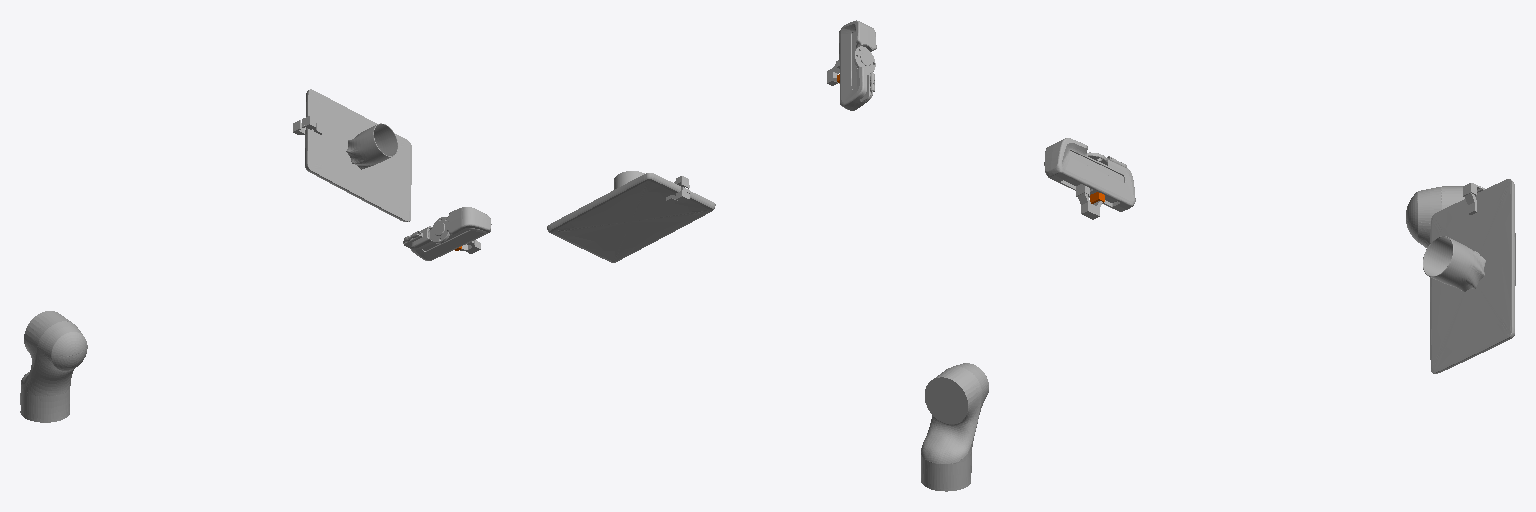
--- Facts derived from the render (not from the file) ---
The picture shows the robot from 3 angles, left to right: view 1: azimuth 30°, elevation 25°; view 2: azimuth 150°, elevation 25°; view 3: azimuth 270°, elevation 25°; orthographic projection.
Model dual_panda_urdf with 27 links and 26 joints (14 revolute, 4 prismatic, 8 fixed), rooted at Root, posed joints at zero except 4 at the middle of their limits (left_panda_fr3_link3_fr3_joint4 = -1.6, left_panda_fr3_link5_fr3_joint6 = 2.53, right_panda_fr3_link3_fr3_joint4 = -1.6, right_panda_fr3_link5_fr3_joint6 = 2.53).
Visible links, largest first — view 1: right_panda_fr3_hand, right_panda_fr3_link1, left_panda_fr3_hand; view 2: right_panda_fr3_hand, right_panda_fr3_link1, left_panda_fr3_hand; view 3: right_panda_fr3_hand, left_panda_fr3_hand, right_panda_fr3_link1.
Boxes of the visible links, left/top/right/bottom form: right_panda_fr3_hand: left=305, top=89, right=411, bottom=221; right_panda_fr3_link1: left=20, top=311, right=87, bottom=422; left_panda_fr3_hand: left=403, top=207, right=491, bottom=260; right_panda_fr3_hand: left=547, top=171, right=715, bottom=262; right_panda_fr3_link1: left=921, top=363, right=988, bottom=491; left_panda_fr3_hand: left=839, top=20, right=876, bottom=110; right_panda_fr3_hand: left=1423, top=179, right=1515, bottom=373; left_panda_fr3_hand: left=1044, top=138, right=1135, bottom=211; right_panda_fr3_link1: left=1406, top=186, right=1464, bottom=247.
Bounding box of the posed robot: 1.03 × 0.8525 × 0.6515 m (x, y, z).
4 mesh visuals loaded from 24 distinct referenced files (4 OBJ); not drawn: 20 (reference not matched to a file when rendering).

URDF robot description (dual_panda_urdf):
<?xml version="1.0" encoding="UTF-8"?>
<robot name="dual_panda_urdf">
  <joint name="left_panda_fr3_hand_fr3_finger_joint1" type="prismatic">
    <origin xyz="0. 0. 0.0584" rpy="0. 0. 1.5707964"/>
    <parent link="left_panda_fr3_hand"/>
    <child link="left_panda_fr3_leftfinger"/>
    <axis xyz="1. 0. 0."/>
    <limit lower="0." upper="0.04" effort="100." velocity="0.2"/>
  </joint>
  <joint name="left_panda_fr3_hand_fr3_finger_joint2" type="prismatic">
    <origin xyz="0. 0. 0.0584" rpy="0. 0. -1.5707964"/>
    <parent link="left_panda_fr3_hand"/>
    <child link="left_panda_fr3_rightfinger"/>
    <axis xyz="1. 0. 0."/>
    <limit lower="0." upper="0.04" effort="100." velocity="0.2"/>
  </joint>
  <joint name="left_panda_fr3_hand_fr3_hand_tcp_joint" type="fixed">
    <origin xyz="0. 0. 0.1034" rpy="0. 0. 0."/>
    <parent link="left_panda_fr3_hand"/>
    <child link="left_panda_fr3_hand_tcp"/>
  </joint>
  <joint name="left_panda_fr3_link0_fr3_joint1" type="revolute">
    <origin xyz="0. 0. 0.333" rpy="0. -1.5707963 0. "/>
    <parent link="left_panda_fr3_link0"/>
    <child link="left_panda_fr3_link1"/>
    <axis xyz="1. 0. 0."/>
    <limit lower="-2.7436999" upper="2.7436999" effort="87." velocity="2.6199998"/>
  </joint>
  <joint name="left_panda_fr3_link1_fr3_joint2" type="revolute">
    <origin xyz="0. 0. 0." rpy="0. 0. 1.5707964"/>
    <parent link="left_panda_fr3_link1"/>
    <child link="left_panda_fr3_link2"/>
    <axis xyz="1. 0. 0."/>
    <limit lower="-1.7836916" upper="1.7836999" effort="87." velocity="2.6199998"/>
  </joint>
  <joint name="left_panda_fr3_link2_fr3_joint3" type="revolute">
    <origin xyz="0. -0.316 0. " rpy="0. 0. -1.5707964"/>
    <parent link="left_panda_fr3_link2"/>
    <child link="left_panda_fr3_link3"/>
    <axis xyz="1. 0. 0."/>
    <limit lower="-2.9006999" upper="2.9006999" effort="87." velocity="2.6199998"/>
  </joint>
  <joint name="left_panda_fr3_link3_fr3_joint4" type="revolute">
    <origin xyz="0. 0. -0.0825" rpy="0. 0. -1.5707964"/>
    <parent link="left_panda_fr3_link3"/>
    <child link="left_panda_fr3_link4"/>
    <axis xyz="1. 0. 0."/>
    <limit lower="-3.0420914" upper="-0.1518" effort="87." velocity="2.6199998"/>
  </joint>
  <joint name="left_panda_fr3_link4_fr3_joint5" type="revolute">
    <origin xyz="0. 0.384 0.0825" rpy="0. 0. 1.5707964"/>
    <parent link="left_panda_fr3_link4"/>
    <child link="left_panda_fr3_link5"/>
    <axis xyz="1. 0. 0."/>
    <limit lower="-2.8064999" upper="2.8065068" effort="12." velocity="5.2600004"/>
  </joint>
  <joint name="left_panda_fr3_link5_fr3_joint6" type="revolute">
    <origin xyz="0. 0. 0." rpy="0. 0. -1.5707964"/>
    <parent link="left_panda_fr3_link5"/>
    <child link="left_panda_fr3_link6"/>
    <axis xyz="1. 0. 0."/>
    <limit lower="0.5445" upper="4.5168948" effort="12." velocity="4.1799999"/>
  </joint>
  <joint name="left_panda_fr3_link6_fr3_joint7" type="revolute">
    <origin xyz="0. 0. -0.088" rpy="0. 0. -1.5707964"/>
    <parent link="left_panda_fr3_link6"/>
    <child link="left_panda_fr3_link7"/>
    <axis xyz="1. 0. 0."/>
    <limit lower="-3.0158997" upper="3.0158941" effort="12." velocity="5.2600004"/>
  </joint>
  <joint name="left_panda_fr3_link7_fr3_joint8" type="fixed">
    <origin xyz="0.107 0. 0. " rpy="0. 1.5707963 0. "/>
    <parent link="left_panda_fr3_link7"/>
    <child link="left_panda_fr3_link8"/>
  </joint>
  <joint name="left_panda_fr3_link8_fr3_hand_joint" type="fixed">
    <origin xyz="0. 0. 0." rpy="0. 0. -0.7853982"/>
    <parent link="left_panda_fr3_link8"/>
    <child link="left_panda_fr3_hand"/>
  </joint>
  <joint name="left_panda_root_joint" type="fixed">
    <origin xyz="0. -0.35 -0. " rpy="0. 0. 0."/>
    <parent link="Root"/>
    <child link="left_panda_fr3_link0"/>
  </joint>
  <joint name="right_panda_fr3_hand_fr3_finger_joint1" type="prismatic">
    <origin xyz="0. 0. 0.0584" rpy="0. 0. 1.5707964"/>
    <parent link="right_panda_fr3_hand"/>
    <child link="right_panda_fr3_leftfinger"/>
    <axis xyz="1. 0. 0."/>
    <limit lower="0." upper="0.04" effort="100." velocity="0.2"/>
  </joint>
  <joint name="right_panda_fr3_hand_fr3_finger_joint2" type="prismatic">
    <origin xyz="0. 0. 0.0584" rpy="0. 0. -1.5707964"/>
    <parent link="right_panda_fr3_hand"/>
    <child link="right_panda_fr3_rightfinger"/>
    <axis xyz="1. 0. 0."/>
    <limit lower="0." upper="0.04" effort="100." velocity="0.2"/>
  </joint>
  <joint name="right_panda_fr3_hand_fr3_hand_tcp_joint" type="fixed">
    <origin xyz="0. 0. 0.1034" rpy="0. 0. 0."/>
    <parent link="right_panda_fr3_hand"/>
    <child link="right_panda_fr3_hand_tcp"/>
  </joint>
  <joint name="right_panda_fr3_link0_fr3_joint1" type="revolute">
    <origin xyz="0. 0. 0.333" rpy="0. -1.5707963 0. "/>
    <parent link="right_panda_fr3_link0"/>
    <child link="right_panda_fr3_link1"/>
    <axis xyz="1. 0. 0."/>
    <limit lower="-2.7436999" upper="2.7436999" effort="87." velocity="2.6199998"/>
  </joint>
  <joint name="right_panda_fr3_link1_fr3_joint2" type="revolute">
    <origin xyz="0. 0. 0." rpy="0. 0. 1.5707964"/>
    <parent link="right_panda_fr3_link1"/>
    <child link="right_panda_fr3_link2"/>
    <axis xyz="1. 0. 0."/>
    <limit lower="-1.7836916" upper="1.7836999" effort="87." velocity="2.6199998"/>
  </joint>
  <joint name="right_panda_fr3_link2_fr3_joint3" type="revolute">
    <origin xyz="0. -0.316 0. " rpy="0. 0. -1.5707964"/>
    <parent link="right_panda_fr3_link2"/>
    <child link="right_panda_fr3_link3"/>
    <axis xyz="1. 0. 0."/>
    <limit lower="-2.9006999" upper="2.9006999" effort="87." velocity="2.6199998"/>
  </joint>
  <joint name="right_panda_fr3_link3_fr3_joint4" type="revolute">
    <origin xyz="0. 0. -0.0825" rpy="0. 0. -1.5707964"/>
    <parent link="right_panda_fr3_link3"/>
    <child link="right_panda_fr3_link4"/>
    <axis xyz="1. 0. 0."/>
    <limit lower="-3.0420914" upper="-0.1518" effort="87." velocity="2.6199998"/>
  </joint>
  <joint name="right_panda_fr3_link4_fr3_joint5" type="revolute">
    <origin xyz="0. 0.384 0.0825" rpy="0. 0. 1.5707964"/>
    <parent link="right_panda_fr3_link4"/>
    <child link="right_panda_fr3_link5"/>
    <axis xyz="1. 0. 0."/>
    <limit lower="-2.8065068" upper="2.8064999" effort="12." velocity="5.2600004"/>
  </joint>
  <joint name="right_panda_fr3_link5_fr3_joint6" type="revolute">
    <origin xyz="0. 0. 0." rpy="0. 0. -1.5707964"/>
    <parent link="right_panda_fr3_link5"/>
    <child link="right_panda_fr3_link6"/>
    <axis xyz="1. 0. 0."/>
    <limit lower="0.5445" upper="4.5168948" effort="12." velocity="4.1799999"/>
  </joint>
  <joint name="right_panda_fr3_link6_fr3_joint7" type="revolute">
    <origin xyz="0. 0. -0.088" rpy="0. 0. -1.5707964"/>
    <parent link="right_panda_fr3_link6"/>
    <child link="right_panda_fr3_link7"/>
    <axis xyz="1. 0. 0."/>
    <limit lower="-3.0158997" upper="3.0158941" effort="12." velocity="5.2600004"/>
  </joint>
  <joint name="right_panda_fr3_link7_fr3_joint8" type="fixed">
    <origin xyz="0.107 0. 0. " rpy="0. 1.5707963 0. "/>
    <parent link="right_panda_fr3_link7"/>
    <child link="right_panda_fr3_link8"/>
  </joint>
  <joint name="right_panda_fr3_link8_fr3_hand_joint" type="fixed">
    <origin xyz="0. 0. 0." rpy="0. 0. -0.7853982"/>
    <parent link="right_panda_fr3_link8"/>
    <child link="right_panda_fr3_hand"/>
  </joint>
  <joint name="right_panda_root_joint" type="fixed">
    <origin xyz="0. 0.35 -0. " rpy="0. 0. 0."/>
    <parent link="Root"/>
    <child link="right_panda_fr3_link0"/>
  </joint>
  <link name="Root"/>
  <link name="left_panda_fr3_hand">
    <inertial>
      <origin xyz="0. 0. 0." rpy="0. 0. 0."/>
      <mass value="0.73"/>
      <inertia ixx="0." ixy="0." ixz="0." iyy="0." iyz="0." izz="0."/>
    </inertial>
    <visual>
      <origin xyz="0. 0. 0." rpy="0. 0. 0."/>
      <geometry>
        <mesh filename="meshes/left_panda_fr3_hand_visuals.obj" scale="1. 1. 1."/>
      </geometry>
      <material name="LightGrey">
        <color rgba="0.7 0.7 0.7 1.0"/>
      </material>
    </visual>
    <collision>
      <origin xyz="0. 0. 0." rpy="0. 0. 0."/>
      <geometry>
        <mesh filename="meshes/left_panda_fr3_hand_collisions.obj" scale="1. 1. 1."/>
      </geometry>
    </collision>
  </link>
  <link name="left_panda_fr3_hand_tcp"/>
  <link name="left_panda_fr3_leftfinger">
    <visual>
      <origin xyz="0. 0. 0." rpy="0. 0. -1.5707964"/>
      <geometry>
        <mesh filename="meshes/left_panda_fr3_leftfinger_visuals.obj" scale="1. 1. 1."/>
      </geometry>
      <material name="LightGrey">
        <color rgba="0.7 0.7 0.7 1.0"/>
      </material>
    </visual>
    <visual>
      <origin xyz="0.0185 0. 0.011 " rpy="0. 0. -1.5707964"/>
      <geometry>
        <box size="0.022 0.015 0.02 "/>
      </geometry>
      <material name="LightGrey">
        <color rgba="0.7 0.7 0.7 1.0"/>
      </material>
    </visual>
    <visual>
      <origin xyz="0.0068 0. 0.0022" rpy="0. 0. -1.5707964"/>
      <geometry>
        <box size="0.022 0.0088 0.0038"/>
      </geometry>
      <material name="LightGrey">
        <color rgba="0.7 0.7 0.7 1.0"/>
      </material>
    </visual>
    <visual>
      <origin xyz="0.0159 0. 0.02835" rpy="0.5235989 0. -1.5707964"/>
      <geometry>
        <box size="0.0175 0.007 0.0235"/>
      </geometry>
      <material name="LightGrey">
        <color rgba="0.7 0.7 0.7 1.0"/>
      </material>
    </visual>
    <visual>
      <origin xyz="0.00758 0. 0.04525" rpy="0. 0. -1.5707964"/>
      <geometry>
        <box size="0.0175 0.0152 0.0185"/>
      </geometry>
      <material name="LightGrey">
        <color rgba="0.7 0.7 0.7 1.0"/>
      </material>
    </visual>
    <collision>
      <origin xyz="0.0185 0. 0.011 " rpy="0. 0. -1.5707964"/>
      <geometry>
        <box size="0.022 0.015 0.02 "/>
      </geometry>
    </collision>
    <collision>
      <origin xyz="0.0068 0. 0.0022" rpy="0. 0. -1.5707964"/>
      <geometry>
        <box size="0.022 0.0088 0.0038"/>
      </geometry>
    </collision>
    <collision>
      <origin xyz="0.0159 0. 0.02835" rpy="0.5235989 0. -1.5707964"/>
      <geometry>
        <box size="0.0175 0.007 0.0235"/>
      </geometry>
    </collision>
    <collision>
      <origin xyz="0.00758 0. 0.04525" rpy="0. 0. -1.5707964"/>
      <geometry>
        <box size="0.0175 0.0152 0.0185"/>
      </geometry>
    </collision>
  </link>
  <link name="left_panda_fr3_link0">
    <visual>
      <origin xyz="0. 0. 0." rpy="0. 0. 0."/>
      <geometry>
        <mesh filename="meshes/left_panda_fr3_link0_visuals.obj" scale="1. 1. 1."/>
      </geometry>
      <material name="LightGrey">
        <color rgba="0.7 0.7 0.7 1.0"/>
      </material>
    </visual>
    <collision>
      <origin xyz="0. 0. 0." rpy="0. 0. 0."/>
      <geometry>
        <mesh filename="meshes/left_panda_fr3_link0_collisions.obj" scale="1. 1. 1."/>
      </geometry>
    </collision>
  </link>
  <link name="left_panda_fr3_link1">
    <inertial>
      <origin xyz="0. 0. 0." rpy="0. 0. 0."/>
      <mass value="2.9274654"/>
      <inertia ixx="0." ixy="0." ixz="0." iyy="0." iyz="0." izz="0."/>
    </inertial>
    <visual>
      <origin xyz="0. 0. 0." rpy="0. 1.5707963 0. "/>
      <geometry>
        <mesh filename="meshes/left_panda_fr3_link1_visuals.obj" scale="1. 1. 1."/>
      </geometry>
      <material name="LightGrey">
        <color rgba="0.7 0.7 0.7 1.0"/>
      </material>
    </visual>
    <collision>
      <origin xyz="0. 0. 0." rpy="0. 1.5707963 0. "/>
      <geometry>
        <mesh filename="meshes/left_panda_fr3_link1_collisions.obj" scale="1. 1. 1."/>
      </geometry>
    </collision>
  </link>
  <link name="left_panda_fr3_link2">
    <inertial>
      <origin xyz="0. 0. 0." rpy="0. 0. 0."/>
      <mass value="2.9355371"/>
      <inertia ixx="0." ixy="0." ixz="0." iyy="0." iyz="0." izz="0."/>
    </inertial>
    <visual>
      <origin xyz="0. 0. 0." rpy="0. 1.5707963 0. "/>
      <geometry>
        <mesh filename="meshes/left_panda_fr3_link2_visuals.obj" scale="1. 1. 1."/>
      </geometry>
      <material name="LightGrey">
        <color rgba="0.7 0.7 0.7 1.0"/>
      </material>
    </visual>
    <collision>
      <origin xyz="0. 0. 0." rpy="0. 1.5707963 0. "/>
      <geometry>
        <mesh filename="meshes/left_panda_fr3_link2_collisions.obj" scale="1. 1. 1."/>
      </geometry>
    </collision>
  </link>
  <link name="left_panda_fr3_link3">
    <inertial>
      <origin xyz="0. 0. 0." rpy="0. 0. 0."/>
      <mass value="2.2449014"/>
      <inertia ixx="0." ixy="0." ixz="0." iyy="0." iyz="0." izz="0."/>
    </inertial>
    <visual>
      <origin xyz="0. 0. 0." rpy="0. 1.5707963 0. "/>
      <geometry>
        <mesh filename="meshes/left_panda_fr3_link3_visuals.obj" scale="1. 1. 1."/>
      </geometry>
      <material name="LightGrey">
        <color rgba="0.7 0.7 0.7 1.0"/>
      </material>
    </visual>
    <collision>
      <origin xyz="0. 0. 0." rpy="0. 1.5707963 0. "/>
      <geometry>
        <mesh filename="meshes/left_panda_fr3_link3_collisions.obj" scale="1. 1. 1."/>
      </geometry>
    </collision>
  </link>
  <link name="left_panda_fr3_link4">
    <inertial>
      <origin xyz="0. 0. 0." rpy="0. 0. 0."/>
      <mass value="2.6155956"/>
      <inertia ixx="0." ixy="0." ixz="0." iyy="0." iyz="0." izz="0."/>
    </inertial>
    <visual>
      <origin xyz="0. 0. 0." rpy="0. 1.5707963 0. "/>
      <geometry>
        <mesh filename="meshes/left_panda_fr3_link4_visuals.obj" scale="1. 1. 1."/>
      </geometry>
      <material name="LightGrey">
        <color rgba="0.7 0.7 0.7 1.0"/>
      </material>
    </visual>
    <collision>
      <origin xyz="0. 0. 0." rpy="0. 1.5707963 0. "/>
      <geometry>
        <mesh filename="meshes/left_panda_fr3_link4_collisions.obj" scale="1. 1. 1."/>
      </geometry>
    </collision>
  </link>
  <link name="left_panda_fr3_link5">
    <inertial>
      <origin xyz="0. 0. 0." rpy="0. 0. 0."/>
      <mass value="2.3271208"/>
      <inertia ixx="0." ixy="0." ixz="0." iyy="0." iyz="0." izz="0."/>
    </inertial>
    <visual>
      <origin xyz="0. 0. 0." rpy="0. 1.5707963 0. "/>
      <geometry>
        <mesh filename="meshes/left_panda_fr3_link5_visuals.obj" scale="1. 1. 1."/>
      </geometry>
      <material name="LightGrey">
        <color rgba="0.7 0.7 0.7 1.0"/>
      </material>
    </visual>
    <collision>
      <origin xyz="0. 0. 0." rpy="0. 1.5707963 0. "/>
      <geometry>
        <mesh filename="meshes/left_panda_fr3_link5_collisions.obj" scale="1. 1. 1."/>
      </geometry>
    </collision>
  </link>
  <link name="left_panda_fr3_link6">
    <inertial>
      <origin xyz="0. 0. 0." rpy="0. 0. 0."/>
      <mass value="1.8170377"/>
      <inertia ixx="0." ixy="0." ixz="0." iyy="0." iyz="0." izz="0."/>
    </inertial>
    <visual>
      <origin xyz="0. 0. 0." rpy="0. 1.5707963 0. "/>
      <geometry>
        <mesh filename="meshes/left_panda_fr3_link6_visuals.obj" scale="1. 1. 1."/>
      </geometry>
      <material name="LightGrey">
        <color rgba="0.7 0.7 0.7 1.0"/>
      </material>
    </visual>
    <collision>
      <origin xyz="0. 0. 0." rpy="0. 1.5707963 0. "/>
      <geometry>
        <mesh filename="meshes/left_panda_fr3_link6_collisions.obj" scale="1. 1. 1."/>
      </geometry>
    </collision>
  </link>
  <link name="left_panda_fr3_link7">
    <inertial>
      <origin xyz="0. 0. 0." rpy="0. 0. 0."/>
      <mass value="0.6271433"/>
      <inertia ixx="0." ixy="0." ixz="0." iyy="0." iyz="0." izz="0."/>
    </inertial>
    <visual>
      <origin xyz="0. 0. 0." rpy="0. 1.5707963 0. "/>
      <geometry>
        <mesh filename="meshes/left_panda_fr3_link7_visuals.obj" scale="1. 1. 1."/>
      </geometry>
      <material name="LightGrey">
        <color rgba="0.7 0.7 0.7 1.0"/>
      </material>
    </visual>
    <collision>
      <origin xyz="0. 0. 0." rpy="0. 1.5707963 0. "/>
      <geometry>
        <mesh filename="meshes/left_panda_fr3_link7_collisions.obj" scale="1. 1. 1."/>
      </geometry>
      <material name="LightGrey">
        <color rgba="0.7 0.7 0.7 1.0"/>
      </material>
    </collision>
  </link>
  <link name="left_panda_fr3_link8"/>
  <link name="left_panda_fr3_rightfinger">
    <visual>
      <origin xyz="0. 0. 0." rpy="0. 0. -1.5707963"/>
      <geometry>
        <mesh filename="meshes/left_panda_fr3_rightfinger_visuals.obj" scale="1. 1. 1."/>
      </geometry>
      <material name="LightGrey">
        <color rgba="0.7 0.7 0.7 1.0"/>
      </material>
    </visual>
    <visual>
      <origin xyz="0.0185 0. 0.011 " rpy="0. 0. 1.5707964"/>
      <geometry>
        <box size="0.022 0.015 0.02 "/>
      </geometry>
    </visual>
    <visual>
      <origin xyz="0.0068 0. 0.0022" rpy="0. 0. 1.5707964"/>
      <geometry>
        <box size="0.022 0.0088 0.0038"/>
      </geometry>
      <material name="LightGrey">
        <color rgba="0.7 0.7 0.7 1.0"/>
      </material>
    </visual>
    <visual>
      <origin xyz="0.0159 0. 0.02835" rpy="-0.5235989 0. 1.5707964"/>
      <geometry>
        <box size="0.0175 0.007 0.0235"/>
      </geometry>
      <material name="LightGrey">
        <color rgba="0.7 0.7 0.7 1.0"/>
      </material>
    </visual>
    <visual>
      <origin xyz="0.00758 0. 0.04525" rpy="0. 0. 1.5707964"/>
      <geometry>
        <box size="0.0175 0.0152 0.0185"/>
      </geometry>
      <material name="LightGrey">
        <color rgba="0.7 0.7 0.7 1.0"/>
      </material>
    </visual>
    <collision>
      <origin xyz="0.0185 0. 0.011 " rpy="0. 0. 1.5707964"/>
      <geometry>
        <box size="0.022 0.015 0.02 "/>
      </geometry>
    </collision>
    <collision>
      <origin xyz="0.0068 0. 0.0022" rpy="0. 0. 1.5707964"/>
      <geometry>
        <box size="0.022 0.0088 0.0038"/>
      </geometry>
    </collision>
    <collision>
      <origin xyz="0.0159 0. 0.02835" rpy="-0.5235989 0. 1.5707964"/>
      <geometry>
        <box size="0.0175 0.007 0.0235"/>
      </geometry>
    </collision>
    <collision>
      <origin xyz="0.00758 0. 0.04525" rpy="0. 0. 1.5707964"/>
      <geometry>
        <box size="0.0175 0.0152 0.0185"/>
      </geometry>
    </collision>
  </link>
  <link name="right_panda_fr3_hand">
    <inertial>
      <origin xyz="0. 0. 0." rpy="0. 0. 0."/>
      <mass value="0.73"/>
      <inertia ixx="0." ixy="0." ixz="0." iyy="0." iyz="0." izz="0."/>
    </inertial>
    <visual>
      <origin xyz="0. 0. 0." rpy="0. 0. 0."/>
      <geometry>
        <mesh filename="meshes/right_panda_fr3_hand_visuals.obj" scale="1. 1. 1."/>
      </geometry>
      <material name="LightGrey">
        <color rgba="0.7 0.7 0.7 1.0"/>
      </material>
    </visual>
    <visual>
      <origin xyz="0.0000068 0.0083501 0.2379537" rpy="-1.5707964 -1.5707964 0. "/>
      <geometry>
        <mesh filename="meshes/plane_node__mesh_.obj" scale="1.05 1. 1. "/>
      </geometry>
      <material name="LightGrey">
        <color rgba="0.7 0.7 0.7 1.0"/>
      </material>
    </visual>
    <visual>
      <origin xyz="-0.0054416 0.0078812 0.2320216" rpy="1.5707964 0. 3.1415927"/>
      <geometry>
        <mesh filename="meshes/bottle_node__mesh_.obj" scale="1. 1. 1."/>
      </geometry>
      <material name="LightGrey">
        <color rgba="0.7 0.7 0.7 1.0"/>
      </material>
    </visual>
    <collision>
      <origin xyz="0. 0. 0." rpy="0. 0. 0."/>
      <geometry>
        <mesh filename="meshes/right_panda_fr3_hand_collisions.obj" scale="1. 1. 1."/>
      </geometry>
    </collision>
  </link>
  <link name="right_panda_fr3_hand_tcp"/>
  <link name="right_panda_fr3_leftfinger">
    <visual>
      <origin xyz="0. 0. 0." rpy="0. 0. -1.5707964"/>
      <geometry>
        <mesh filename="meshes/right_panda_fr3_leftfinger_visuals.obj" scale="1. 1. 1."/>
      </geometry>
      <material name="LightGrey">
        <color rgba="0.7 0.7 0.7 1.0"/>
      </material>
    </visual>
    <visual>
      <origin xyz="0.0185 0. 0.011 " rpy="0. 0. -1.5707964"/>
      <geometry>
        <box size="0.022 0.015 0.02 "/>
      </geometry>
      <material name="LightGrey">
        <color rgba="0.7 0.7 0.7 1.0"/>
      </material>
    </visual>
    <visual>
      <origin xyz="0.0068 0. 0.0022" rpy="0. 0. -1.5707964"/>
      <geometry>
        <box size="0.022 0.0088 0.0038"/>
      </geometry>
      <material name="LightGrey">
        <color rgba="0.7 0.7 0.7 1.0"/>
      </material>
    </visual>
    <visual>
      <origin xyz="0.0159 0. 0.02835" rpy="0.5235989 0. -1.5707964"/>
      <geometry>
        <box size="0.0175 0.007 0.0235"/>
      </geometry>
      <material name="LightGrey">
        <color rgba="0.7 0.7 0.7 1.0"/>
      </material>
    </visual>
    <visual>
      <origin xyz="0.00758 0. 0.04525" rpy="0. 0. -1.5707964"/>
      <geometry>
        <box size="0.0175 0.0152 0.0185"/>
      </geometry>
      <material name="LightGrey">
        <color rgba="0.7 0.7 0.7 1.0"/>
      </material>
    </visual>
    <collision>
      <origin xyz="0.0185 0. 0.011 " rpy="0. 0. -1.5707964"/>
      <geometry>
        <box size="0.022 0.015 0.02 "/>
      </geometry>
    </collision>
    <collision>
      <origin xyz="0.0068 0. 0.0022" rpy="0. 0. -1.5707964"/>
      <geometry>
        <box size="0.022 0.0088 0.0038"/>
      </geometry>
    </collision>
    <collision>
      <origin xyz="0.0159 0. 0.02835" rpy="0.5235989 0. -1.5707964"/>
      <geometry>
        <box size="0.0175 0.007 0.0235"/>
      </geometry>
    </collision>
    <collision>
      <origin xyz="0.00758 0. 0.04525" rpy="0. 0. -1.5707964"/>
      <geometry>
        <box size="0.0175 0.0152 0.0185"/>
      </geometry>
    </collision>
  </link>
  <link name="right_panda_fr3_link0">
    <visual>
      <origin xyz="0. 0. 0." rpy="0. 0. 0."/>
      <geometry>
        <mesh filename="meshes/right_panda_fr3_link0_visuals.obj" scale="1. 1. 1."/>
      </geometry>
      <material name="LightGrey">
        <color rgba="0.7 0.7 0.7 1.0"/>
      </material>
    </visual>
    <collision>
      <origin xyz="0. 0. 0." rpy="0. 0. 0."/>
      <geometry>
        <mesh filename="meshes/right_panda_fr3_link0_collisions.obj" scale="1. 1. 1."/>
      </geometry>
    </collision>
  </link>
  <link name="right_panda_fr3_link1">
    <inertial>
      <origin xyz="0. 0. 0." rpy="0. 0. 0."/>
      <mass value="2.9274654"/>
      <inertia ixx="0." ixy="0." ixz="0." iyy="0." iyz="0." izz="0."/>
    </inertial>
    <visual>
      <origin xyz="0. 0. 0." rpy="0. 1.5707963 0. "/>
      <geometry>
        <mesh filename="meshes/right_panda_fr3_link1_visuals.obj" scale="1. 1. 1."/>
      </geometry>
      <material name="LightGrey">
        <color rgba="0.7 0.7 0.7 1.0"/>
      </material>
    </visual>
    <collision>
      <origin xyz="0. 0. 0." rpy="0. 1.5707963 0. "/>
      <geometry>
        <mesh filename="meshes/right_panda_fr3_link1_collisions.obj" scale="1. 1. 1."/>
      </geometry>
    </collision>
  </link>
  <link name="right_panda_fr3_link2">
    <inertial>
      <origin xyz="0. 0. 0." rpy="0. 0. 0."/>
      <mass value="2.9355371"/>
      <inertia ixx="0." ixy="0." ixz="0." iyy="0." iyz="0." izz="0."/>
    </inertial>
    <visual>
      <origin xyz="0. 0. 0." rpy="0. 1.5707963 0. "/>
      <geometry>
        <mesh filename="meshes/right_panda_fr3_link2_visuals.obj" scale="1. 1. 1."/>
      </geometry>
      <material name="LightGrey">
        <color rgba="0.7 0.7 0.7 1.0"/>
      </material>
    </visual>
    <collision>
      <origin xyz="0. 0. 0." rpy="0. 1.5707963 0. "/>
      <geometry>
        <mesh filename="meshes/right_panda_fr3_link2_collisions.obj" scale="1. 1. 1."/>
      </geometry>
    </collision>
  </link>
  <link name="right_panda_fr3_link3">
    <inertial>
      <origin xyz="0. 0. 0." rpy="0. 0. 0."/>
      <mass value="2.2449014"/>
      <inertia ixx="0." ixy="0." ixz="0." iyy="0." iyz="0." izz="0."/>
    </inertial>
    <visual>
      <origin xyz="0. 0. 0." rpy="0. 1.5707963 0. "/>
      <geometry>
        <mesh filename="meshes/right_panda_fr3_link3_visuals.obj" scale="1. 1. 1."/>
      </geometry>
      <material name="LightGrey">
        <color rgba="0.7 0.7 0.7 1.0"/>
      </material>
    </visual>
    <collision>
      <origin xyz="0. 0. 0." rpy="0. 1.5707963 0. "/>
      <geometry>
        <mesh filename="meshes/right_panda_fr3_link3_collisions.obj" scale="1. 1. 1."/>
      </geometry>
    </collision>
  </link>
  <link name="right_panda_fr3_link4">
    <inertial>
      <origin xyz="0. 0. 0." rpy="0. 0. 0."/>
      <mass value="2.6155956"/>
      <inertia ixx="0." ixy="0." ixz="0." iyy="0." iyz="0." izz="0."/>
    </inertial>
    <visual>
      <origin xyz="0. 0. 0." rpy="0. 1.5707963 0. "/>
      <geometry>
        <mesh filename="meshes/right_panda_fr3_link4_visuals.obj" scale="1. 1. 1."/>
      </geometry>
      <material name="LightGrey">
        <color rgba="0.7 0.7 0.7 1.0"/>
      </material>
    </visual>
    <collision>
      <origin xyz="0. 0. 0." rpy="0. 1.5707963 0. "/>
      <geometry>
        <mesh filename="meshes/right_panda_fr3_link4_collisions.obj" scale="1. 1. 1."/>
      </geometry>
    </collision>
  </link>
  <link name="right_panda_fr3_link5">
    <inertial>
      <origin xyz="0. 0. 0." rpy="0. 0. 0."/>
      <mass value="2.3271208"/>
      <inertia ixx="0." ixy="0." ixz="0." iyy="0." iyz="0." izz="0."/>
    </inertial>
    <visual>
      <origin xyz="0. 0. 0." rpy="0. 1.5707963 0. "/>
      <geometry>
        <mesh filename="meshes/right_panda_fr3_link5_visuals.obj" scale="1. 1. 1."/>
      </geometry>
      <material name="LightGrey">
        <color rgba="0.7 0.7 0.7 1.0"/>
      </material>
    </visual>
    <collision>
      <origin xyz="0. 0. 0." rpy="0. 1.5707963 0. "/>
      <geometry>
        <mesh filename="meshes/right_panda_fr3_link5_collisions.obj" scale="1. 1. 1."/>
      </geometry>
    </collision>
  </link>
  <link name="right_panda_fr3_link6">
    <inertial>
      <origin xyz="0. 0. 0." rpy="0. 0. 0."/>
      <mass value="1.8170377"/>
      <inertia ixx="0." ixy="0." ixz="0." iyy="0." iyz="0." izz="0."/>
    </inertial>
    <visual>
      <origin xyz="0. 0. 0." rpy="0. 1.5707963 0. "/>
      <geometry>
        <mesh filename="meshes/right_panda_fr3_link6_visuals.obj" scale="1. 1. 1."/>
      </geometry>
      <material name="LightGrey">
        <color rgba="0.7 0.7 0.7 1.0"/>
      </material>
    </visual>
    <collision>
      <origin xyz="0. 0. 0." rpy="0. 1.5707963 0. "/>
      <geometry>
        <mesh filename="meshes/right_panda_fr3_link6_collisions.obj" scale="1. 1. 1."/>
      </geometry>
    </collision>
  </link>
  <link name="right_panda_fr3_link7">
    <inertial>
      <origin xyz="0. 0. 0." rpy="0. 0. 0."/>
      <mass value="0.6271433"/>
      <inertia ixx="0." ixy="0." ixz="0." iyy="0." iyz="0." izz="0."/>
    </inertial>
    <visual>
      <origin xyz="0. 0. 0." rpy="0. 1.5707963 0. "/>
      <geometry>
        <mesh filename="meshes/right_panda_fr3_link7_visuals.obj" scale="1. 1. 1."/>
      </geometry>
      <material name="LightGrey">
        <color rgba="0.7 0.7 0.7 1.0"/>
      </material>
    </visual>
    <collision>
      <origin xyz="0. 0. 0." rpy="0. 1.5707963 0. "/>
      <geometry>
        <mesh filename="meshes/right_panda_fr3_link7_collisions.obj" scale="1. 1. 1."/>
      </geometry>
    </collision>
  </link>
  <link name="right_panda_fr3_link8"/>
  <link name="right_panda_fr3_rightfinger">
    <visual>
      <origin xyz="0. 0. 0." rpy="0. 0. -1.5707963"/>
      <geometry>
        <mesh filename="meshes/right_panda_fr3_rightfinger_visuals.obj" scale="1. 1. 1."/>
      </geometry>
      <material name="LightGrey">
        <color rgba="0.7 0.7 0.7 1.0"/>
      </material>
    </visual>
    <visual>
      <origin xyz="0.0185 0. 0.011 " rpy="0. 0. 1.5707964"/>
      <geometry>
        <box size="0.022 0.015 0.02 "/>
      </geometry>
      <material name="LightGrey">
        <color rgba="0.7 0.7 0.7 1.0"/>
      </material>
    </visual>
    <visual>
      <origin xyz="0.0068 0. 0.0022" rpy="0. 0. 1.5707964"/>
      <geometry>
        <box size="0.022 0.0088 0.0038"/>
      </geometry>
      <material name="LightGrey">
        <color rgba="0.7 0.7 0.7 1.0"/>
      </material>
    </visual>
    <visual>
      <origin xyz="0.0159 0. 0.02835" rpy="-0.5235989 0. 1.5707964"/>
      <geometry>
        <box size="0.0175 0.007 0.0235"/>
      </geometry>
      <material name="LightGrey">
        <color rgba="0.7 0.7 0.7 1.0"/>
      </material>
    </visual>
    <visual>
      <origin xyz="0.00758 0. 0.04525" rpy="0. 0. 1.5707964"/>
      <geometry>
        <box size="0.0175 0.0152 0.0185"/>
      </geometry>
      <material name="LightGrey">
        <color rgba="0.7 0.7 0.7 1.0"/>
      </material>
    </visual>
    <collision>
      <origin xyz="0.0185 0. 0.011 " rpy="0. 0. 1.5707964"/>
      <geometry>
        <box size="0.022 0.015 0.02 "/>
      </geometry>
    </collision>
    <collision>
      <origin xyz="0.0068 0. 0.0022" rpy="0. 0. 1.5707964"/>
      <geometry>
        <box size="0.022 0.0088 0.0038"/>
      </geometry>
    </collision>
    <collision>
      <origin xyz="0.0159 0. 0.02835" rpy="-0.5235989 0. 1.5707964"/>
      <geometry>
        <box size="0.0175 0.007 0.0235"/>
      </geometry>
    </collision>
    <collision>
      <origin xyz="0.00758 0. 0.04525" rpy="0. 0. 1.5707964"/>
      <geometry>
        <box size="0.0175 0.0152 0.0185"/>
      </geometry>
    </collision>
  </link>
</robot>
